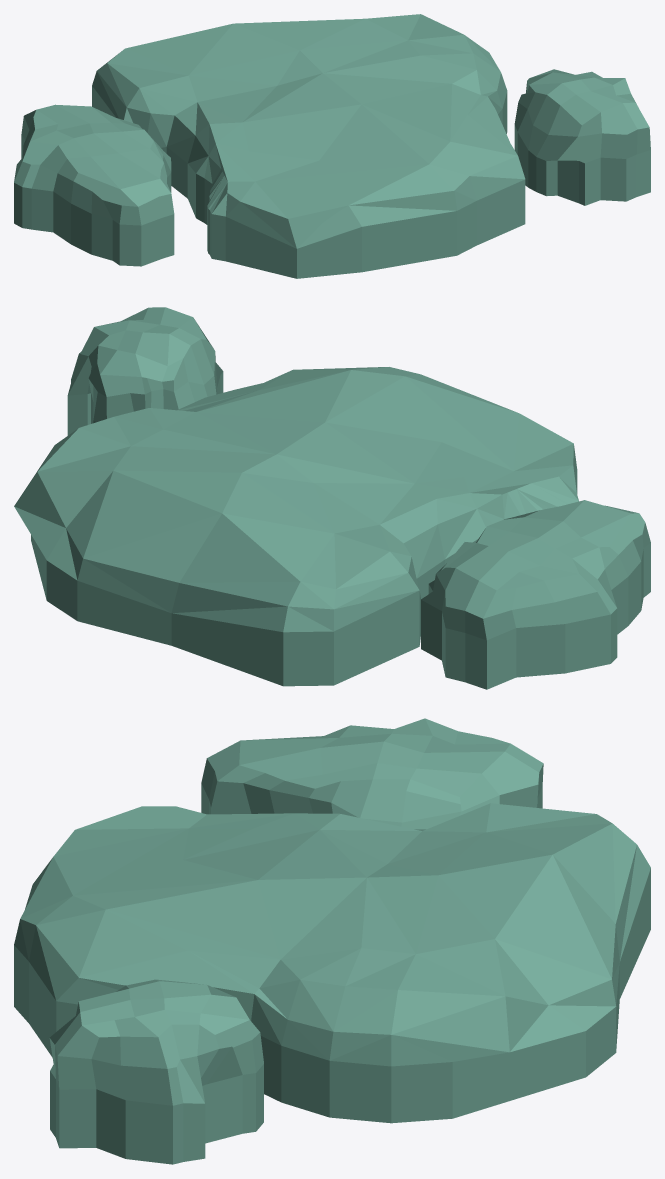
File: M_Island.fbx
The picture shows the model from 3 angles, top to bottom: view 1: azimuth 30°, elevation 25°; view 2: azimuth 150°, elevation 25°; view 3: azimuth 270°, elevation 25°; orthographic projection. The views are drawn at different scales.
Parts seen in each view (by area): view 1: M_Island; view 2: M_Island; view 3: M_Island.
Boxes of the visible parts, left/top/right/bottom form: M_Island: left=14, top=14, right=650, bottom=278; M_Island: left=14, top=307, right=650, bottom=689; M_Island: left=14, top=718, right=650, bottom=1164.
Bounding box in the file's own units: 4576 × 789 × 3426.
